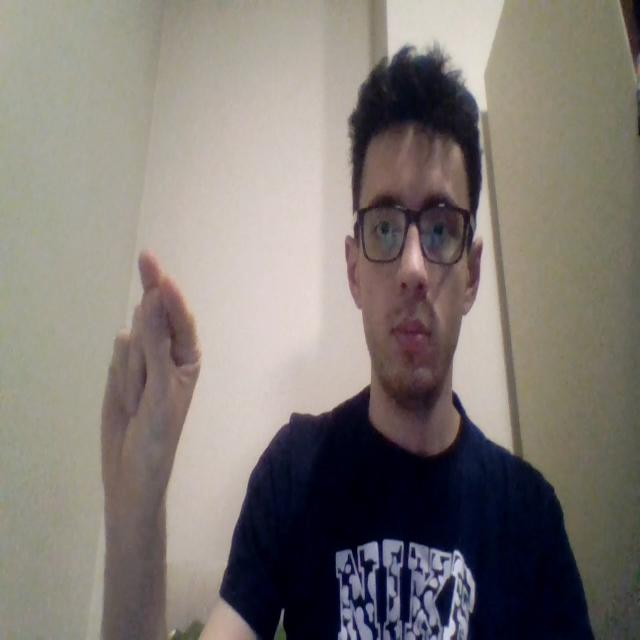no: (100, 248, 202, 525)
